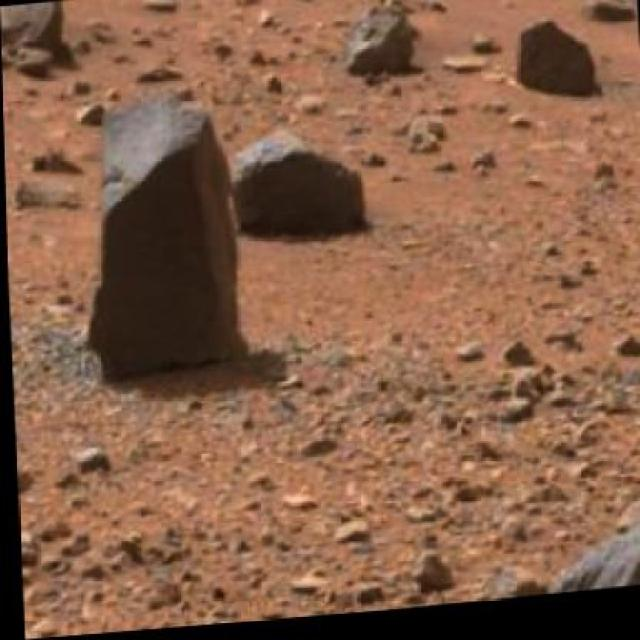rock: (68, 83, 244, 391), (402, 514, 638, 612), (230, 128, 372, 255), (508, 25, 604, 117), (0, 0, 78, 91), (337, 5, 418, 89), (622, 0, 636, 37), (266, 0, 346, 2)
